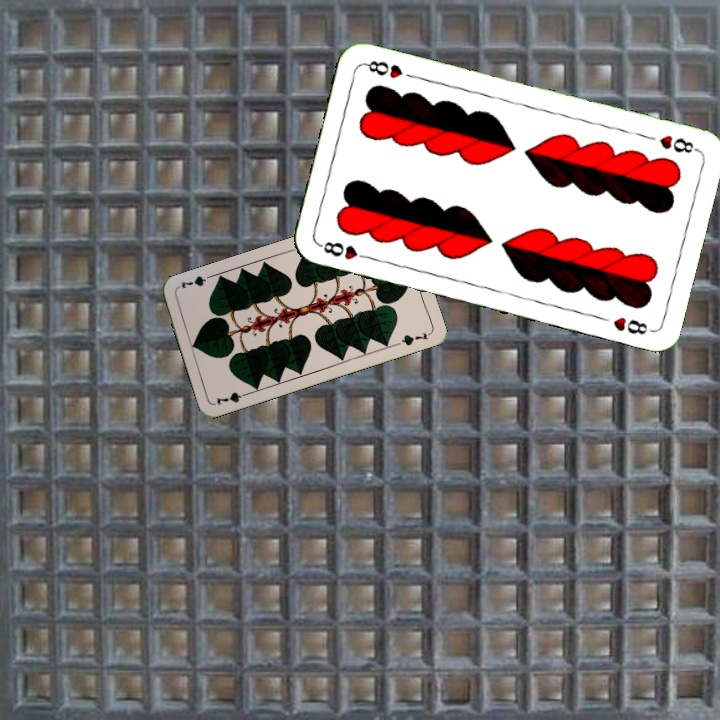G7: (212, 388, 252, 408)
H8: (315, 237, 373, 262), (655, 131, 701, 156)
